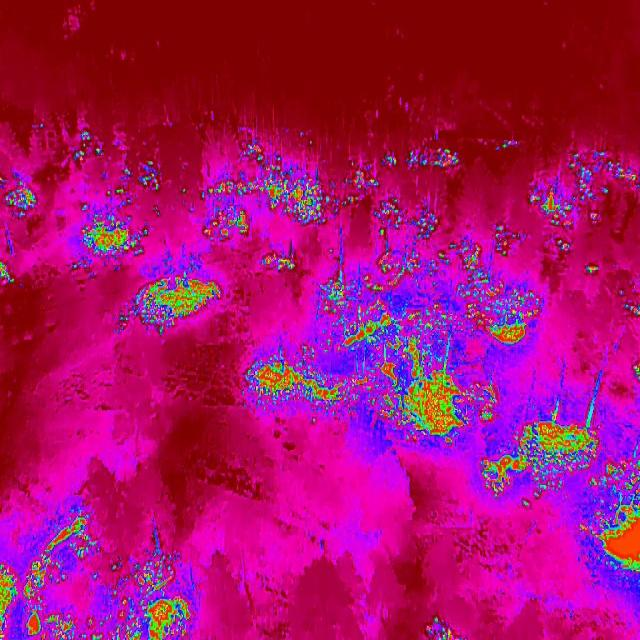fire: (198, 168, 382, 272), (416, 219, 542, 347), (24, 513, 140, 639), (374, 348, 498, 452), (478, 410, 600, 500), (528, 144, 640, 230), (238, 350, 374, 420), (324, 272, 416, 362), (580, 457, 640, 578), (117, 268, 224, 334), (368, 192, 450, 272), (74, 208, 150, 266), (114, 157, 188, 215), (376, 139, 470, 182), (240, 136, 310, 176), (138, 596, 198, 640), (553, 234, 601, 282), (138, 552, 174, 596), (0, 181, 37, 223), (0, 561, 18, 639), (422, 611, 462, 640), (72, 130, 105, 164), (620, 288, 640, 324), (0, 254, 17, 290), (627, 358, 640, 390)
